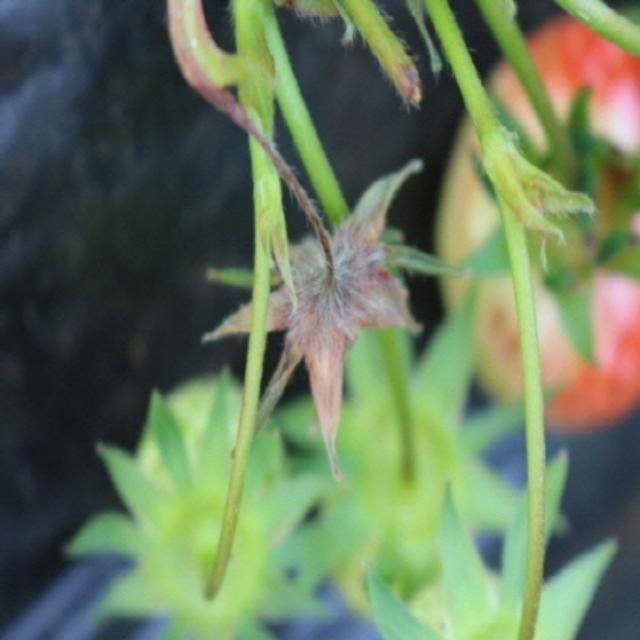Gray Mold: (201, 158, 423, 481)
